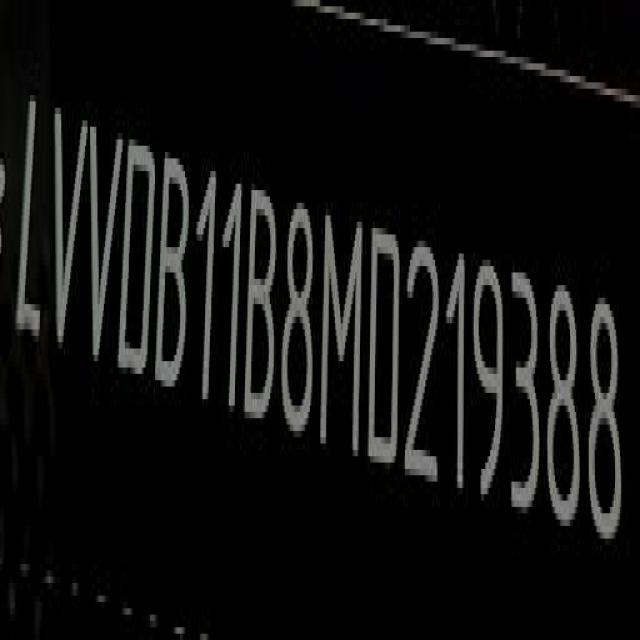1: (195, 165, 219, 418), (220, 172, 243, 422), (445, 242, 466, 493)
2: (407, 236, 443, 495)
3: (506, 270, 540, 537)
8: (547, 279, 584, 535), (591, 299, 624, 549), (285, 197, 318, 447)
9: (471, 254, 505, 512)
B: (154, 146, 192, 400), (247, 179, 280, 428)
D: (121, 133, 158, 391), (370, 220, 402, 476)
L: (17, 87, 47, 356)
M: (322, 207, 366, 469)
V: (50, 98, 86, 365), (89, 114, 124, 384)
